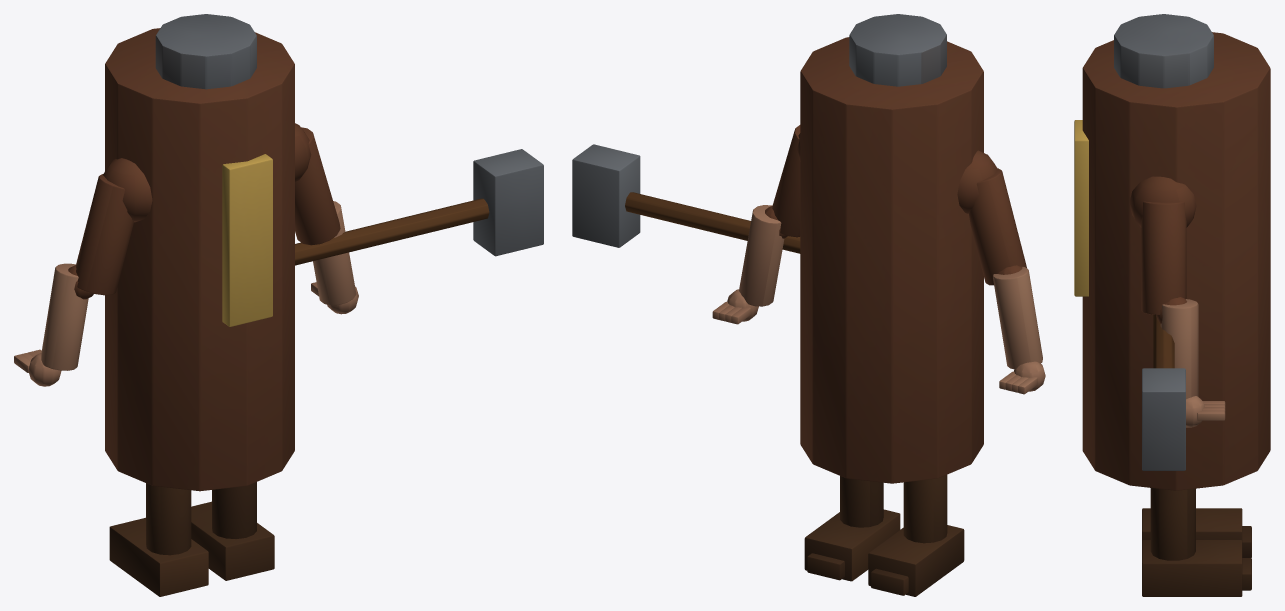
The model's file is unit_royal_justiciar.fbx.
3 renders of one model, left to right at view 1: azimuth 30°, elevation 25°; view 2: azimuth 150°, elevation 25°; view 3: azimuth 270°, elevation 25°, orthographic. The views are drawn at different scales.
Parts seen in each view (by area): view 1: unit_royal_justiciar; view 2: unit_royal_justiciar; view 3: unit_royal_justiciar.
Part boxes in pixels (x1,y1,x2,y2): unit_royal_justiciar: (14, 14, 543, 596); unit_royal_justiciar: (572, 14, 1045, 596); unit_royal_justiciar: (1074, 14, 1270, 596).
Bounding box in the file's own units: 1.78 × 1.88 × 0.6243.
